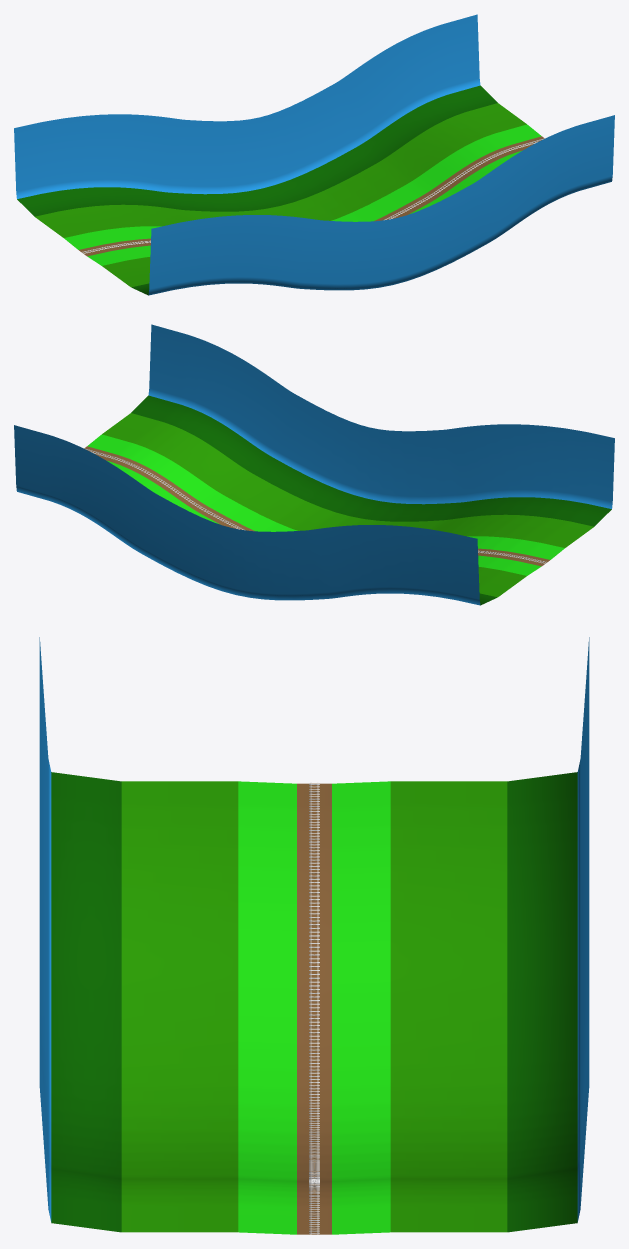
The model's file is Valle.fbx.
3 renders of one model, top to bottom at view 1: azimuth 30°, elevation 25°; view 2: azimuth 150°, elevation 25°; view 3: azimuth 270°, elevation 25°, orthographic. The views are drawn at different scales.
Visible parts, largest first — view 1: Valle.002; view 2: Valle.002; view 3: Valle.002.
Part boxes in pixels (bbox=[...]): Valle.002: bbox=[14, 14, 614, 295]; Valle.002: bbox=[14, 324, 614, 605]; Valle.002: bbox=[39, 637, 589, 1234].
Size of the model in its own units: 19474 by 5000 by 10000.
